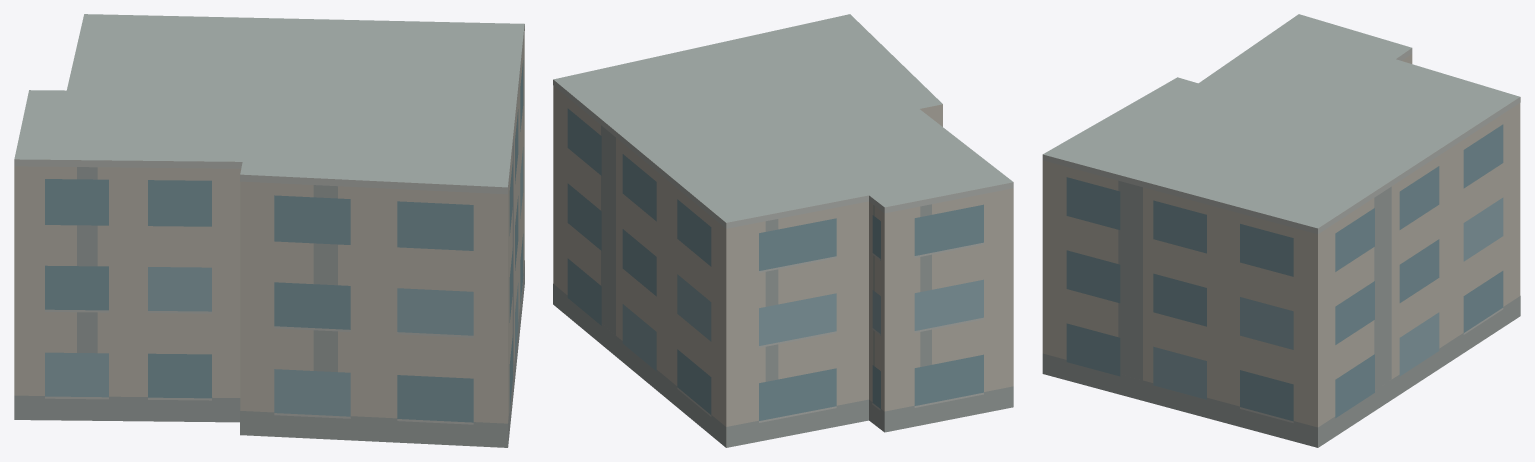
The model's file is residential-877b1506-b324-418b-8b05-2cdb4f5b2e63.glb.
3 renders of one model, left to right at view 1: azimuth 30°, elevation 25°; view 2: azimuth 150°, elevation 25°; view 3: azimuth 270°, elevation 25°, orthographic. The views are drawn at different scales.
Visible parts, largest first — view 1: residential-877b1506-b324-418b-8b05-2cdb4f5b2e63.tmp; view 2: residential-877b1506-b324-418b-8b05-2cdb4f5b2e63.tmp; view 3: residential-877b1506-b324-418b-8b05-2cdb4f5b2e63.tmp.
Part boxes in pixels (box(x1,y1,x2,y2)): residential-877b1506-b324-418b-8b05-2cdb4f5b2e63.tmp: box(14, 14, 524, 447); residential-877b1506-b324-418b-8b05-2cdb4f5b2e63.tmp: box(553, 14, 1013, 447); residential-877b1506-b324-418b-8b05-2cdb4f5b2e63.tmp: box(1042, 14, 1520, 447).
Bounding box in the file's own units: 19.19 × 9.15 × 18.07.
